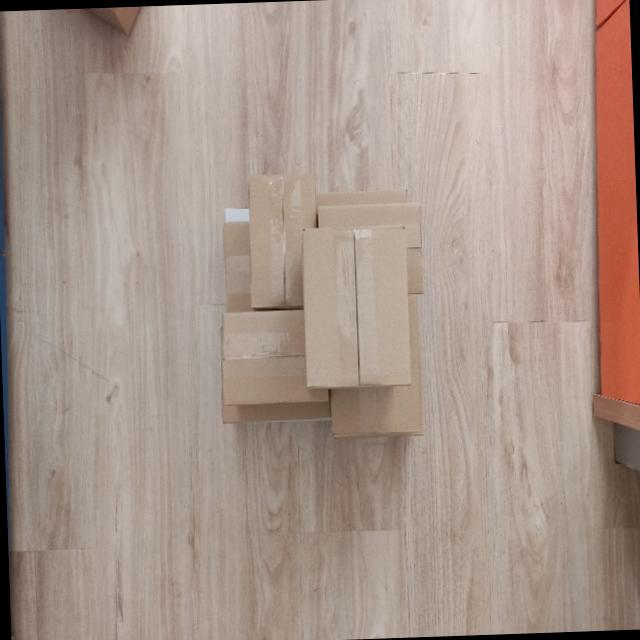box: (296, 222, 418, 394), (214, 304, 334, 412), (236, 168, 322, 310)
